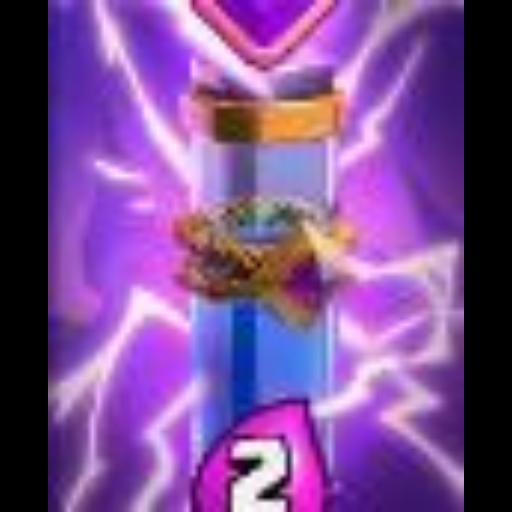zap-evo: (48, 0, 464, 512)
